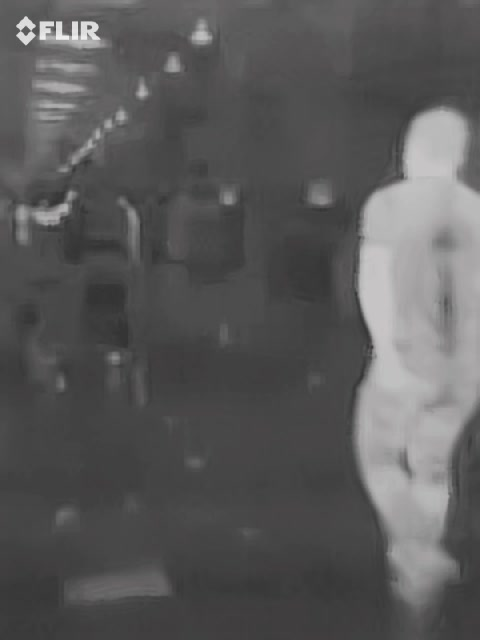head: (401, 107, 469, 180)
